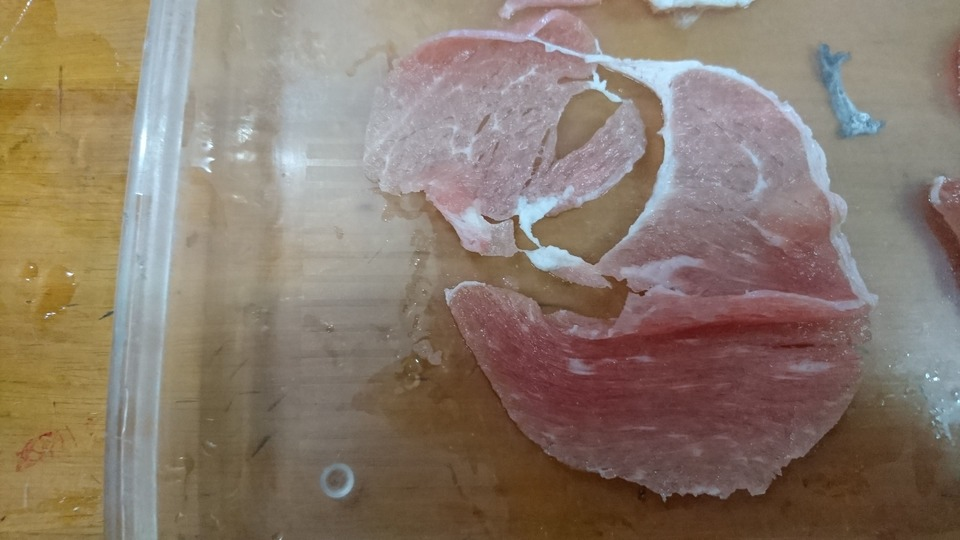restructured meat: (375, 45, 866, 508)
